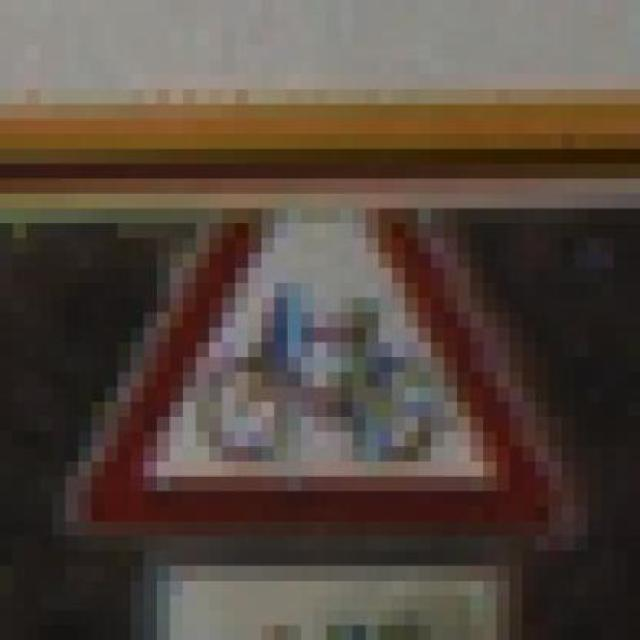CYCLE ROUTE AHEAD WARNING: (39, 208, 613, 581)
